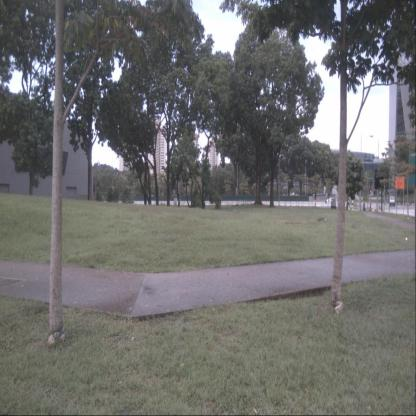vehicle-car: (389, 196, 395, 206)
